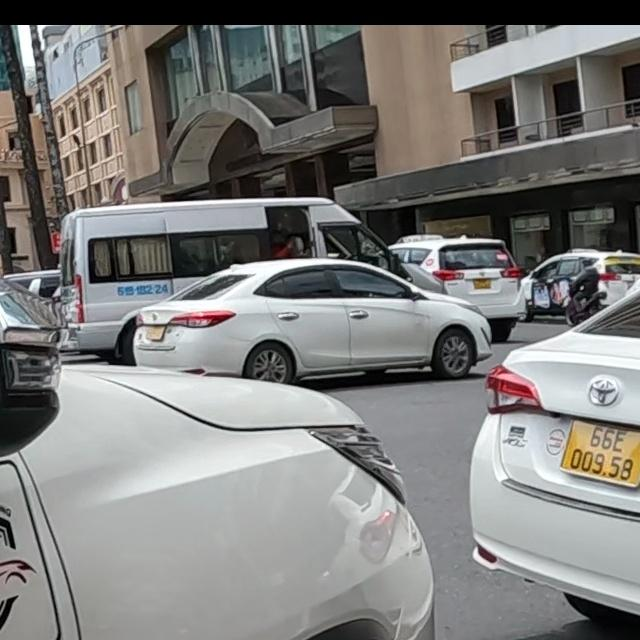license-plate: (559, 418, 640, 489)
